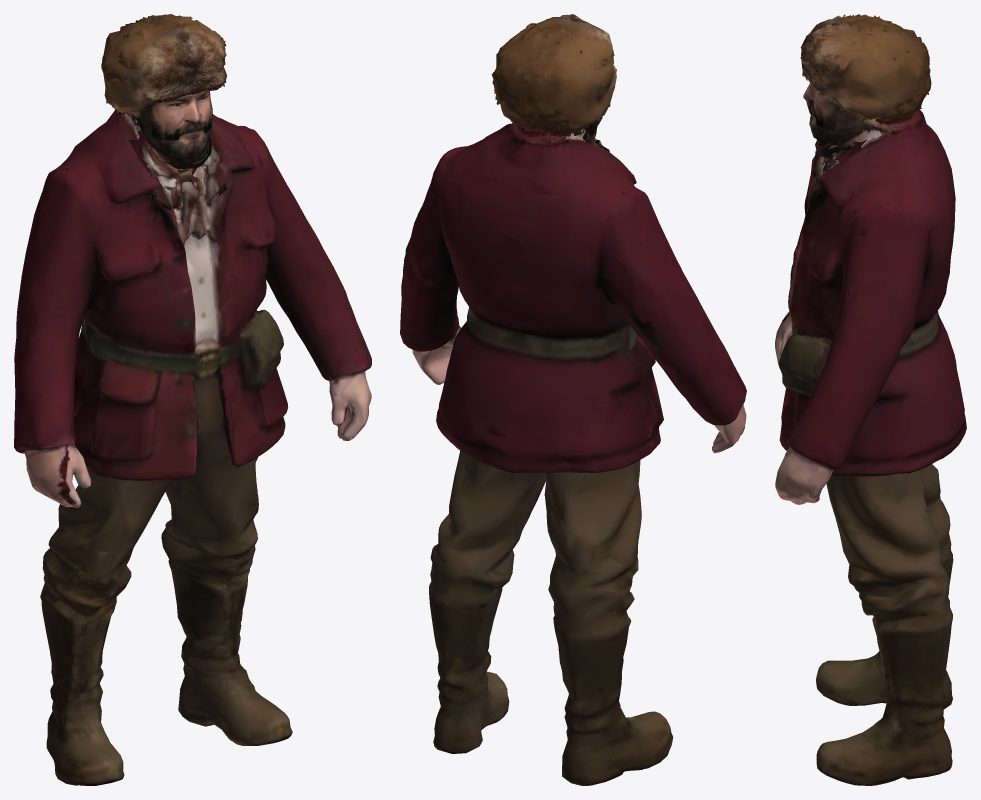
Rendered from trader.glb.
The picture shows the model from 3 angles, left to right: view 1: azimuth 30°, elevation 25°; view 2: azimuth 150°, elevation 25°; view 3: azimuth 270°, elevation 25°; orthographic projection. The views are drawn at different scales.
Visible parts, largest first — view 1: trader.raw; view 2: trader.raw; view 3: trader.raw.
Part boxes in pixels (x1=…): trader.raw: x1=14, y1=14, x2=371, y2=785; trader.raw: x1=400, y1=14, x2=746, y2=785; trader.raw: x1=775, y1=14, x2=966, y2=785.
Size of the model in its own units: 0.8874 by 1.8 by 0.437.
1 material, 1 textured.
